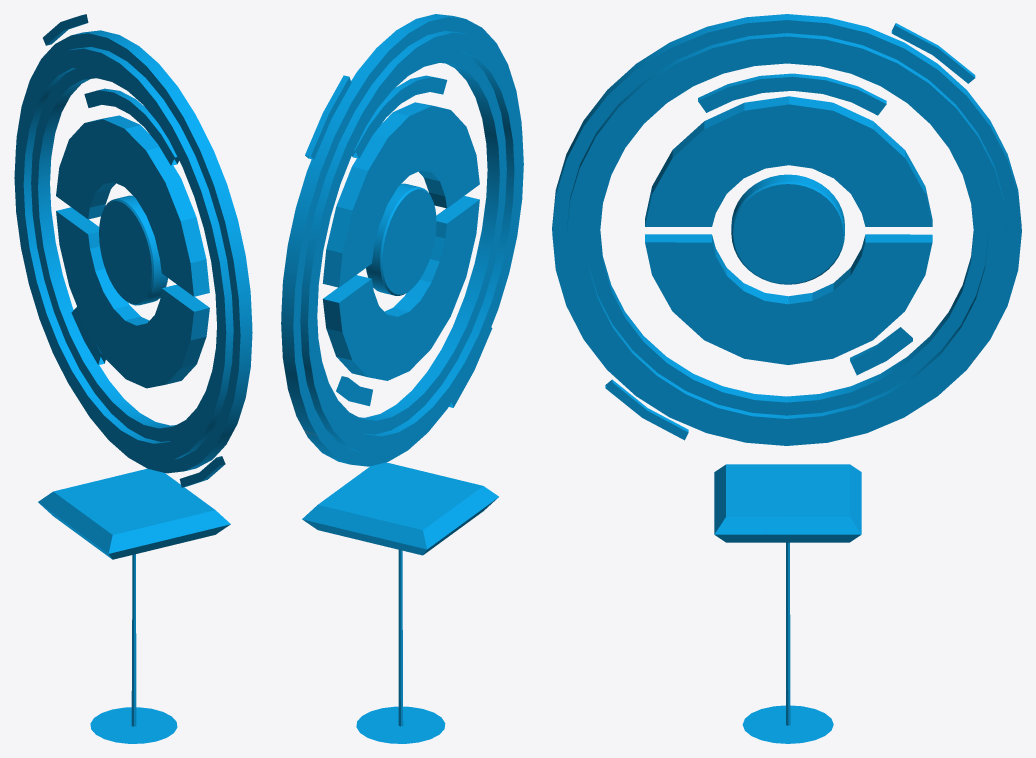
File: PokeStop_thing.glb
3 views of the same model, side by side, from view 1: azimuth 30°, elevation 25°; view 2: azimuth 150°, elevation 25°; view 3: azimuth 270°, elevation 25° (orthographic). The views are drawn at different scales.
Visible parts, largest first — view 1: node_id5; view 2: node_id5; view 3: node_id5.
Boxes of the visible parts, bbox=[...] form: node_id5: bbox=[14, 14, 252, 743]; node_id5: bbox=[281, 14, 523, 743]; node_id5: bbox=[552, 14, 1021, 743].
Size of the model in its own units: 0.0968 by 0.512 by 0.3081.
Materials: 1 (1 with a texture image).
